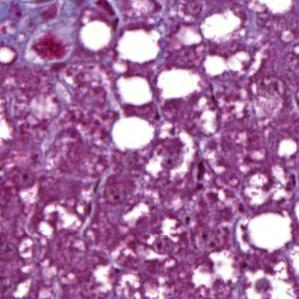steatosis: (110, 117, 159, 154)
